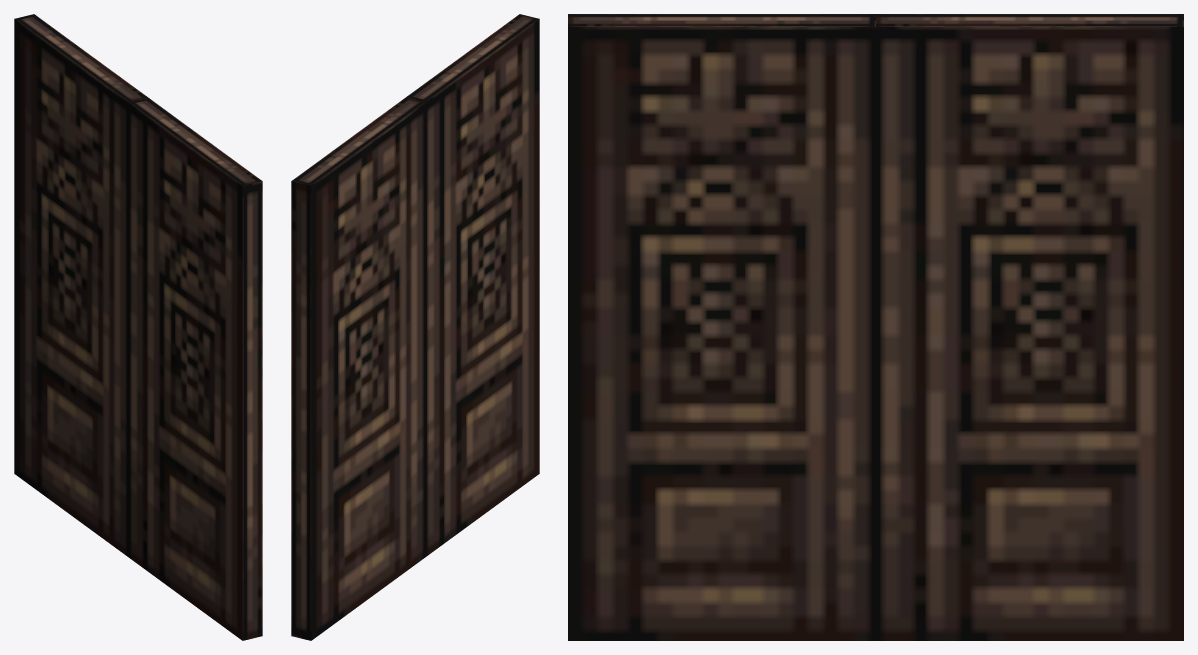
File: EnvBdgMD_Theater_A_Outdoor_Door_Close.FBX
3 renders of one model, left to right at view 1: azimuth 30°, elevation 25°; view 2: azimuth 150°, elevation 25°; view 3: azimuth 270°, elevation 25°, orthographic. The views are drawn at different scales.
Parts seen in each view (by area): view 1: EnvBdgMD_Theater_A_Outdoor_Door_Close; view 2: EnvBdgMD_Theater_A_Outdoor_Door_Close; view 3: EnvBdgMD_Theater_A_Outdoor_Door_Close.
Boxes of the visible parts, left/top/right/bottom form: EnvBdgMD_Theater_A_Outdoor_Door_Close: left=14, top=14, right=262, bottom=640; EnvBdgMD_Theater_A_Outdoor_Door_Close: left=291, top=14, right=539, bottom=640; EnvBdgMD_Theater_A_Outdoor_Door_Close: left=568, top=14, right=1183, bottom=640.
Bounding box in the file's own units: 10 × 220 × 200.
Materials: 1 (1 with a texture image).
